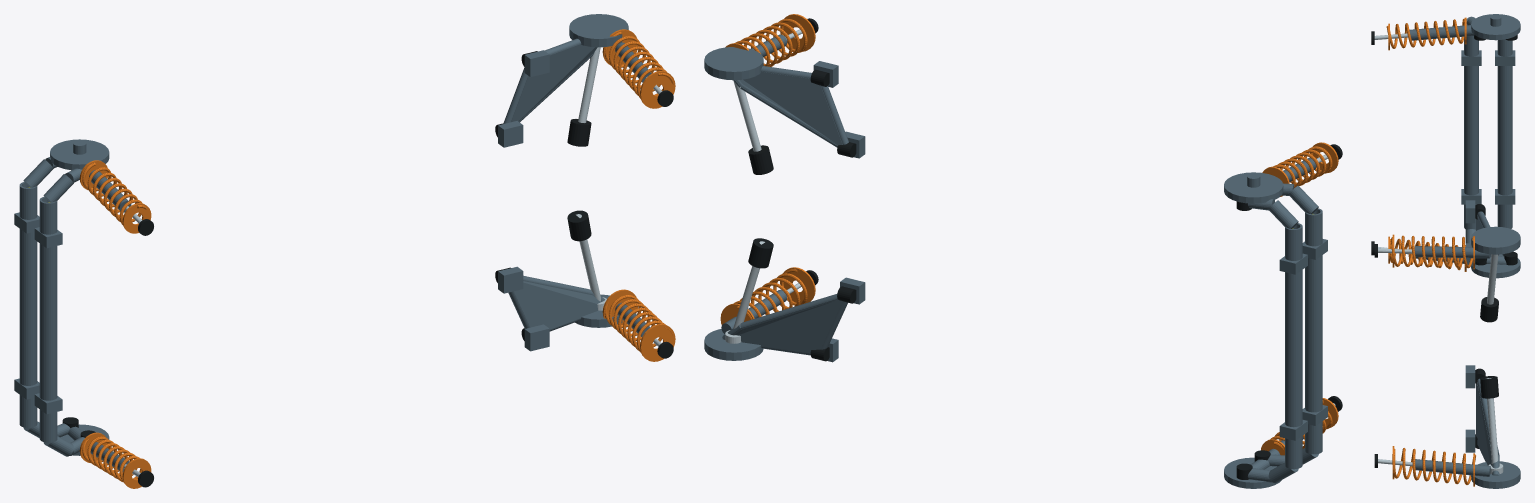
File: stock-suspension.obj
The picture shows the model from 3 angles, left to right: view 1: azimuth 30°, elevation 25°; view 2: azimuth 150°, elevation 25°; view 3: azimuth 270°, elevation 25°; orthographic projection. The views are drawn at different scales.
Parts seen in each view (by area): view 1: Передняя_ось_·_верхняя_труба, Передняя_ось_·_нижняя_труба, Задний_сварной_рычаг_·_правая, Задний_сварной_рычаг_·_левая, Задняя_левая_·_пружина, Задняя_правая_·_пружина, Передняя_левая_·_пружина, Передняя_правая_·_пружина, Задний_барабан_/_ступица_·_левая, Передний_барабан_/_ступица_·_левая, Передние_кронштейны_·_левая, Передние_кронштейны_·_правая; view 2: Задний_сварной_рычаг_·_левая, Задний_сварной_рычаг_·_правая, Передняя_ось_·_нижняя_труба, Передняя_ось_·_верхняя_труба, Задняя_правая_·_пружина, Задняя_левая_·_пружина, Задний_барабан_/_ступица_·_левая, Передняя_левая_·_пружина, Передний_барабан_/_ступица_·_левая, Задний_барабан_/_ступица_·_правая, Передний_барабан_/_ступица_·_правая, Передние_кронштейны_·_правая (+3 smaller); view 3: Передняя_ось_·_нижняя_труба, Передняя_ось_·_верхняя_труба, Задняя_правая_·_пружина, Задняя_левая_·_пружина, Задний_барабан_/_ступица_·_левая, Передняя_левая_·_пружина, Задний_сварной_рычаг_·_правая, Передний_барабан_/_ступица_·_левая, Задний_барабан_/_ступица_·_правая, Задняя_правая_·_амортизатор, Задняя_левая_·_амортизатор, Полуось_и_кардан_·_правая (+12 smaller).
Part boxes in pixels (box(x1,y1,x2,y2)): Передняя_ось_·_верхняя_труба: box(39, 196, 57, 442); Передняя_ось_·_нижняя_труба: box(19, 182, 37, 427); Задний_сварной_рычаг_·_правая: box(508, 275, 605, 331); Задний_сварной_рычаг_·_левая: box(503, 38, 597, 123); Задняя_левая_·_пружина: box(602, 29, 675, 108); Задняя_правая_·_пружина: box(602, 289, 675, 361); Передняя_левая_·_пружина: box(79, 160, 151, 233); Передняя_правая_·_пружина: box(79, 432, 151, 488); Задний_барабан_/_ступица_·_левая: box(569, 14, 628, 47); Передний_барабан_/_ступица_·_левая: box(50, 139, 109, 170); Передние_кронштейны_·_левая: box(14, 212, 62, 248); Передние_кронштейны_·_правая: box(14, 378, 62, 414); Задний_сварной_рычаг_·_левая: box(733, 66, 848, 147); Задний_сварной_рычаг_·_правая: box(722, 294, 847, 355); Передняя_ось_·_нижняя_труба: box(1285, 223, 1302, 469); Передняя_ось_·_верхняя_труба: box(1305, 208, 1322, 454); Задняя_правая_·_пружина: box(720, 267, 815, 324); Задняя_левая_·_пружина: box(725, 14, 815, 66); Задний_барабан_/_ступица_·_левая: box(704, 47, 763, 80); Передняя_левая_·_пружина: box(1262, 142, 1338, 196); Передний_барабан_/_ступица_·_левая: box(1224, 172, 1283, 203); Задний_барабан_/_ступица_·_правая: box(704, 329, 763, 360); Передний_барабан_/_ступица_·_правая: box(1224, 457, 1281, 488); Передние_кронштейны_·_правая: box(1279, 405, 1327, 440); Передняя_ось_·_нижняя_труба: box(1497, 39, 1512, 228); Передняя_ось_·_верхняя_труба: box(1464, 36, 1478, 229); Задняя_правая_·_пружина: box(1392, 446, 1475, 486); Задняя_левая_·_пружина: box(1391, 234, 1474, 269); Задний_барабан_/_ступица_·_левая: box(1471, 226, 1520, 254); Передняя_левая_·_пружина: box(1386, 17, 1466, 50); Задний_сварной_рычаг_·_правая: box(1476, 378, 1499, 475); Передний_барабан_/_ступица_·_левая: box(1471, 14, 1520, 40); Задний_барабан_/_ступица_·_правая: box(1471, 461, 1520, 488); Задняя_правая_·_амортизатор: box(1415, 459, 1490, 476); Задняя_левая_·_амортизатор: box(1414, 246, 1490, 258); Полуось_и_кардан_·_правая: box(1486, 378, 1503, 473).
Size of the model in its own units: 2491 by 1228 by 644.
